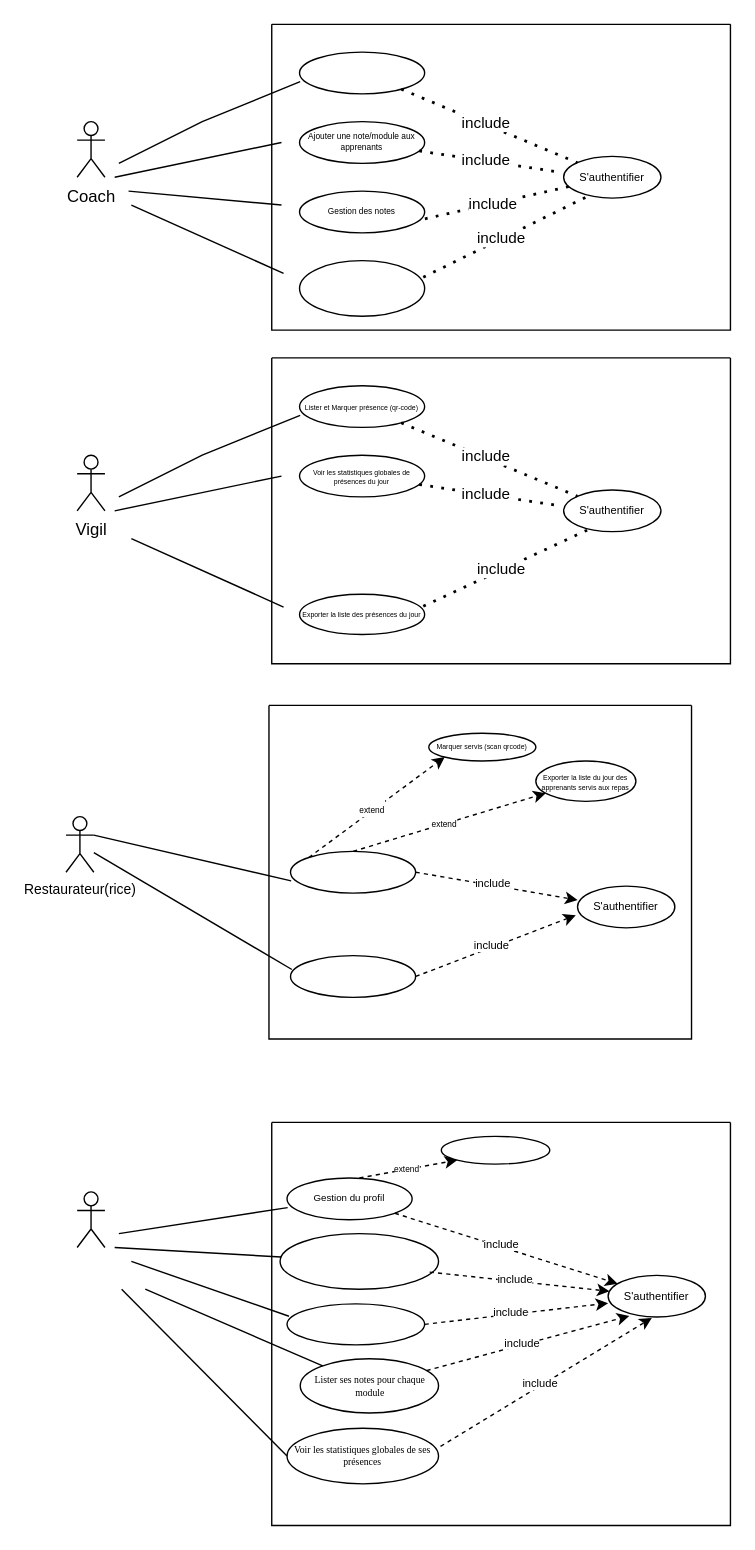
The diagram is 755 pixels wide and 1550 high, and some of its shapes have lost their labels. The centre of each missing label's shape, as x and y in pixels:
"Ajout lister modifier module" belongs at pixel 361 72.
"Ajouter/modifier" belongs at pixel 495 1149.
"Apprenant" belongs at pixel 90 1219.
"Exporter la liste des notes de ses apprenants / module" belongs at pixel 361 287.
"Gestion Pointage Restauration" belongs at pixel 352 871.
"Lister ses présences et justifier ses absences" belongs at pixel 355 1323.
"Voir les statistiques globales de pointages du jour" belongs at pixel 352 975.
"Voir sa carte d’apprenant (Qr-code pour pointage)" belongs at pixel 359 1260.
